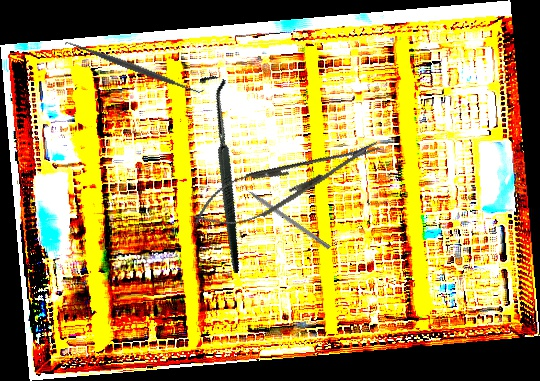Hook Surgical: (138, 71, 303, 274), (234, 179, 332, 251)
Needle Holder: (185, 123, 388, 243)
Spatula Surgical: (62, 33, 207, 102)
